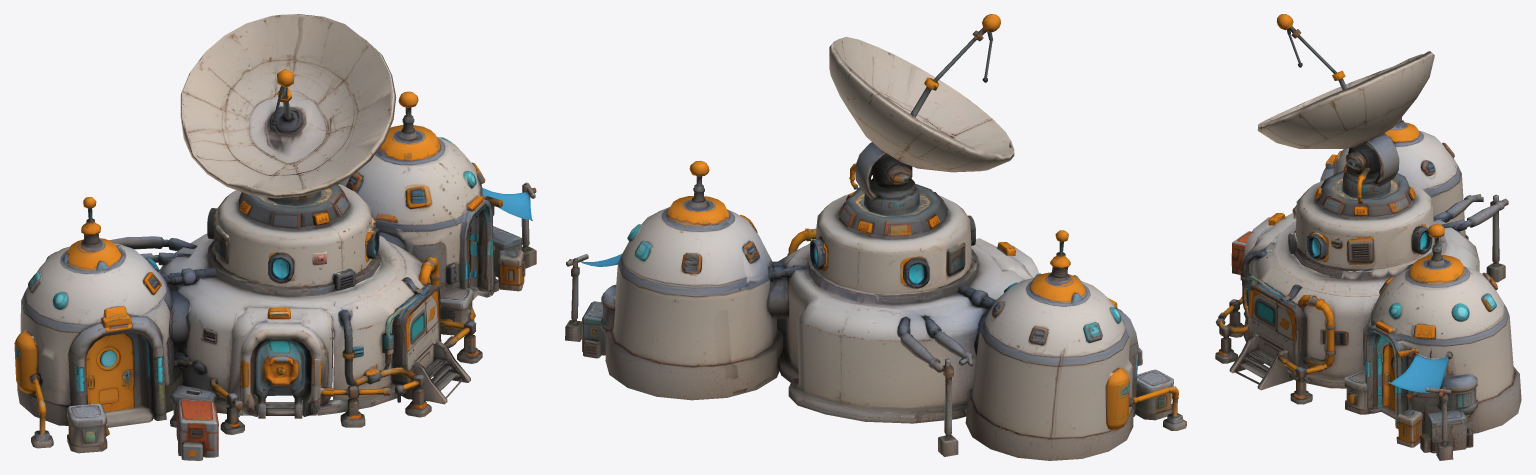
The model's file is space_base.glb.
The picture shows the model from 3 angles, left to right: view 1: azimuth 30°, elevation 25°; view 2: azimuth 150°, elevation 25°; view 3: azimuth 270°, elevation 25°; orthographic projection. The views are drawn at different scales.
Parts seen in each view (by area): view 1: tripo_node_68ba11a8-8d4e-4f85-926c-21ce81ae4b80; view 2: tripo_node_68ba11a8-8d4e-4f85-926c-21ce81ae4b80; view 3: tripo_node_68ba11a8-8d4e-4f85-926c-21ce81ae4b80.
Boxes of the visible parts, x1,y1,x2,y2 form: tripo_node_68ba11a8-8d4e-4f85-926c-21ce81ae4b80: [14, 14, 536, 460]; tripo_node_68ba11a8-8d4e-4f85-926c-21ce81ae4b80: [565, 14, 1186, 460]; tripo_node_68ba11a8-8d4e-4f85-926c-21ce81ae4b80: [1215, 14, 1521, 460].
Size of the model in its own units: 0.9995 by 0.5845 by 0.5337.
Materials: 1 (1 with a texture image).
